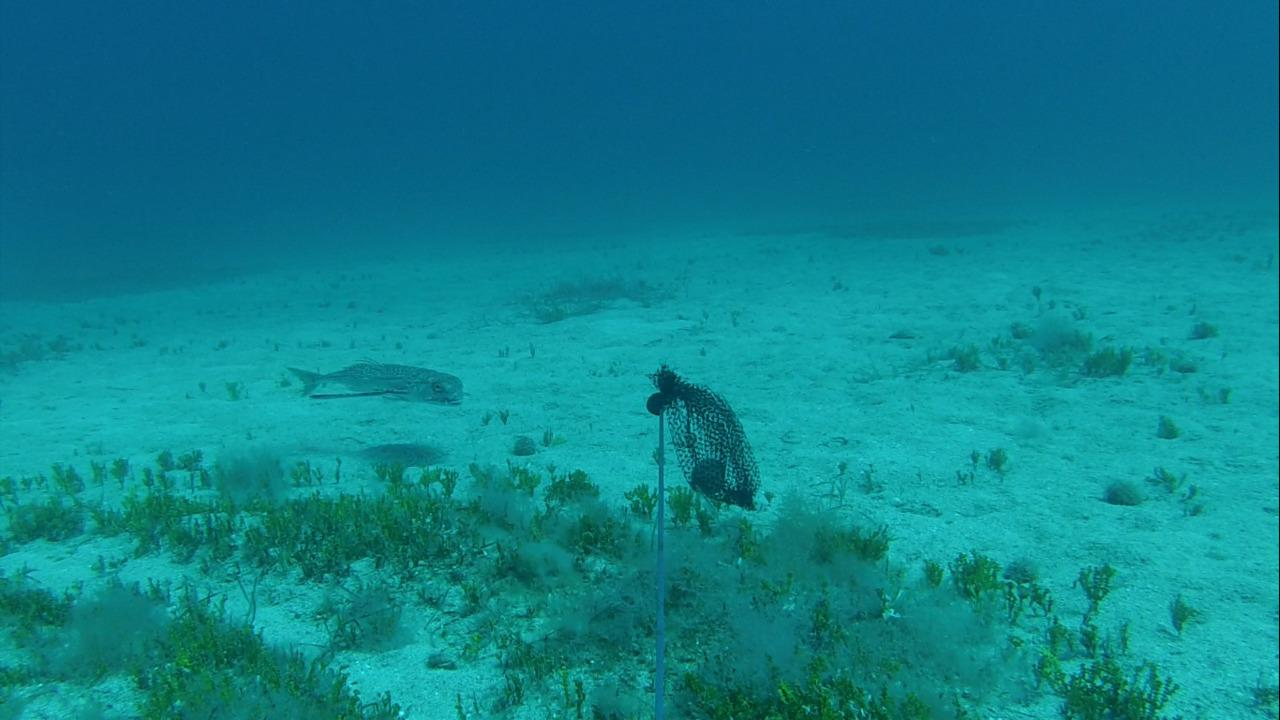dactylopterus: (282, 358, 469, 414)
